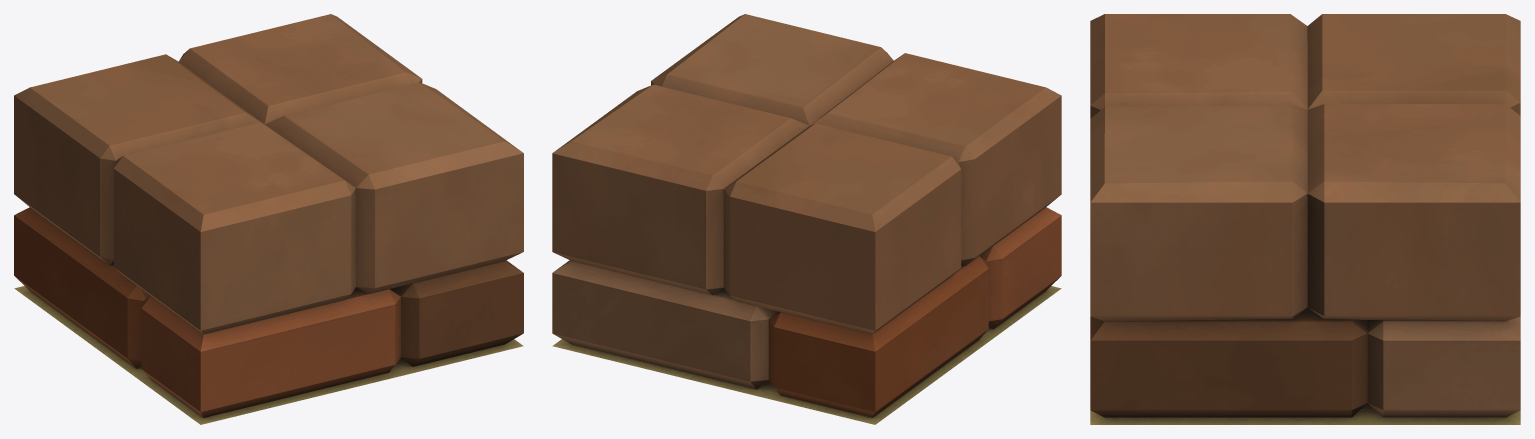
File: J-MurCasse.FBX
The picture shows the model from 3 angles, left to right: view 1: azimuth 30°, elevation 25°; view 2: azimuth 150°, elevation 25°; view 3: azimuth 270°, elevation 25°; orthographic projection. The views are drawn at different scales.
Visible parts, largest first — view 1: J-Mur; view 2: J-Mur; view 3: J-Mur.
Boxes of the visible parts, left/top/right/bottom form: J-Mur: left=14, top=14, right=523, bottom=424; J-Mur: left=552, top=14, right=1061, bottom=424; J-Mur: left=1090, top=14, right=1520, bottom=424.
Size of the model in its own units: 2 by 1.2 by 2.
